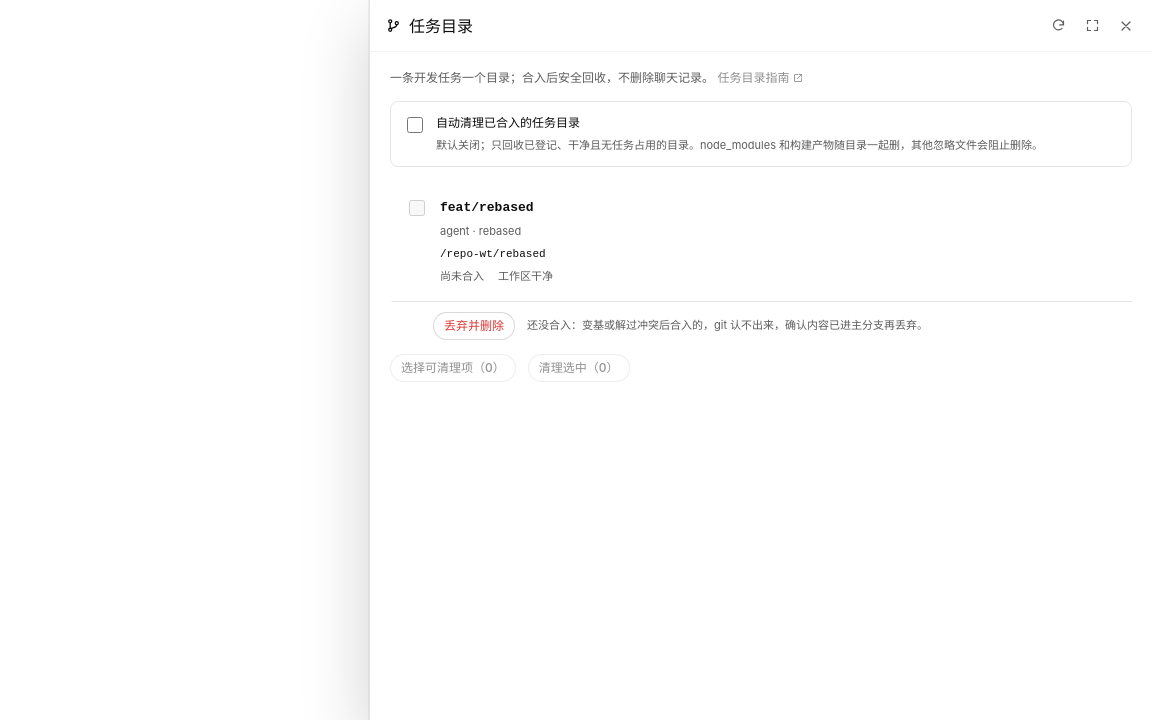
Test: WorktreePanel › lists the commits to be dropped and discards with the confirmed head only after confirmation
This screenshot has width=1152, height=720.
Click the button "丢弃并删除".
click(474, 326)  # box [433,312,515,340]
(page scrolled)
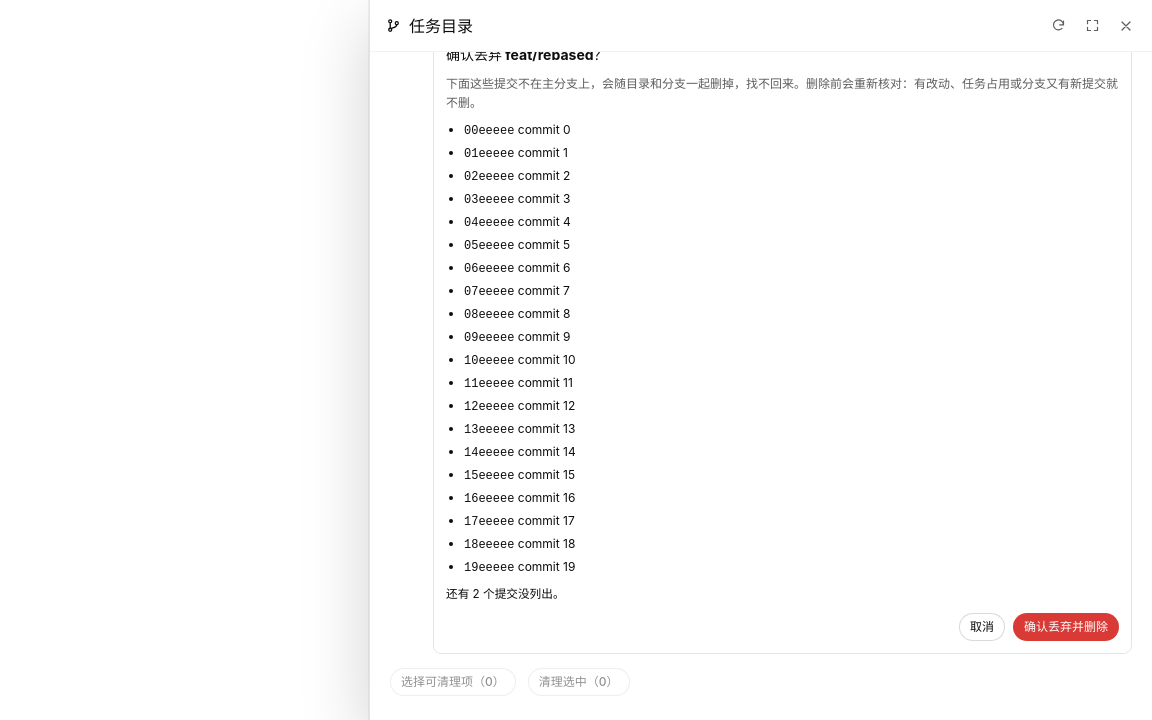
Expected: the text "确认丢弃 feat/rebased？" is shown, [446,52,608,63]
Expected: the list item "commit 0" is shown, [518,122,571,137]
Expected: the text "00eeeee" is shown, [464,124,514,138]
# 取消：不删，确认框收起
Click the button "取消".
click(982, 627)  # box [959,613,1005,641]
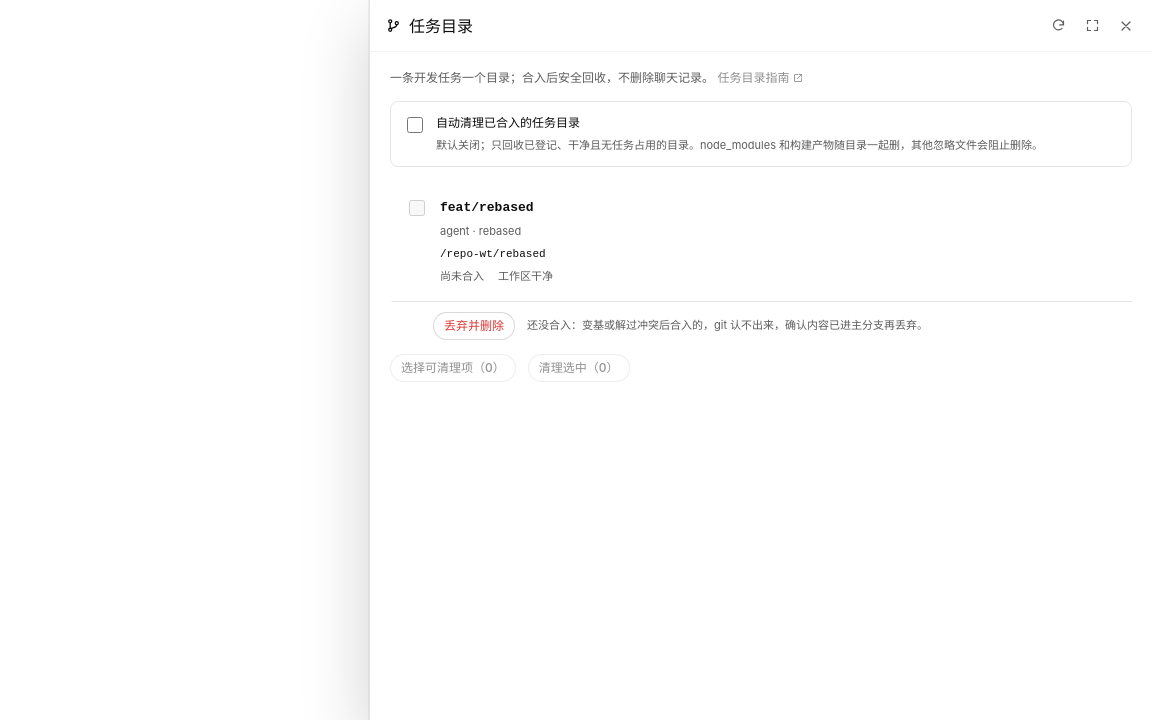
Expected: the text "确认丢弃 feat/rebased？" is gone
Click the button "丢弃并删除".
click(474, 326)  # box [433,312,515,340]
(page scrolled)
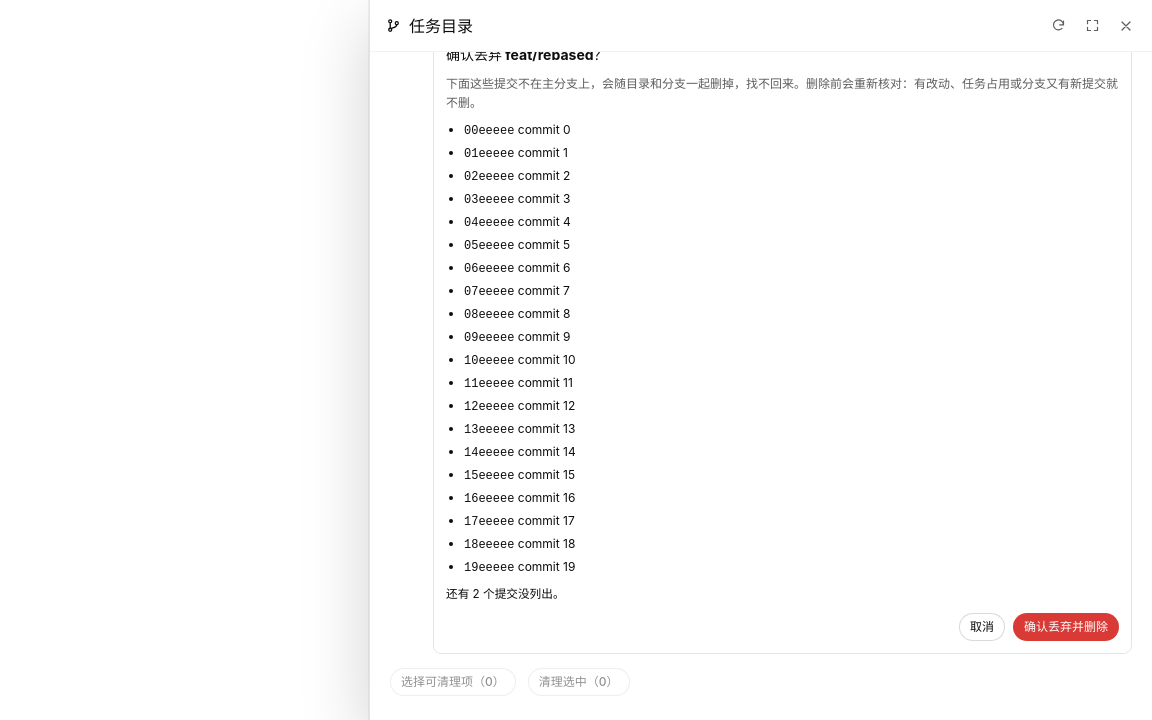
Click the button "确认丢弃并删除".
click(1066, 627)  # box [1013,613,1119,641]
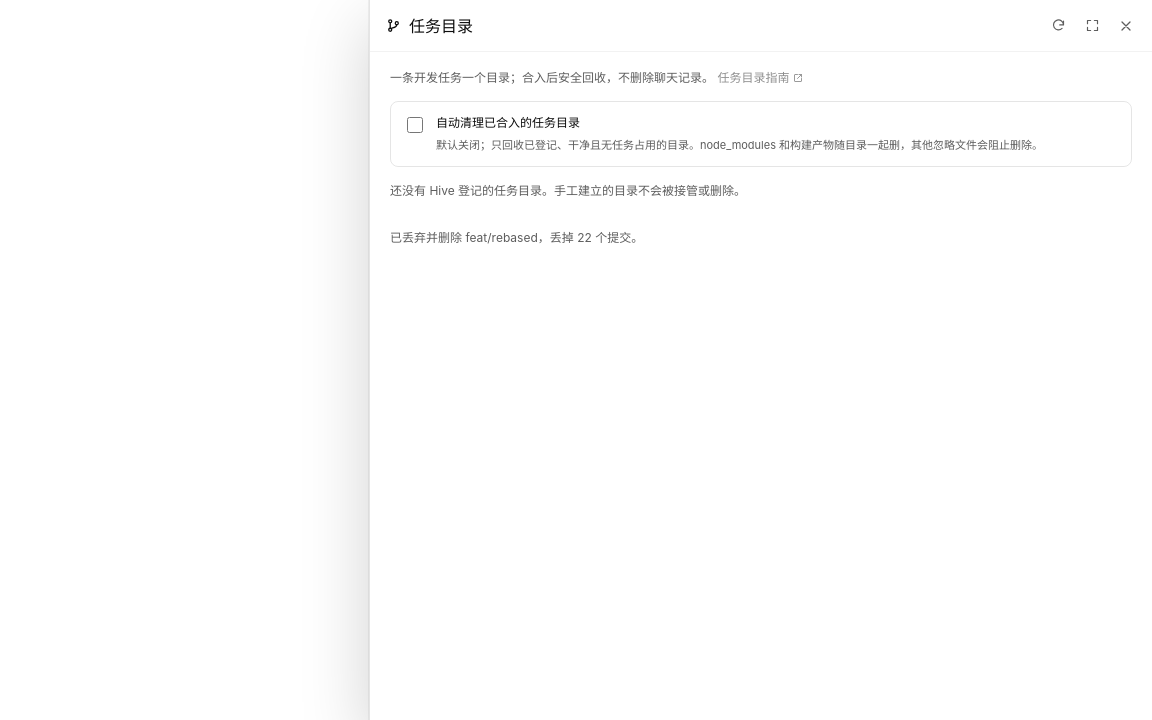
Expected: the text "已丢弃并删除 feat/rebased，丢掉 22 个提交。" is shown, [390,230,643,245]
